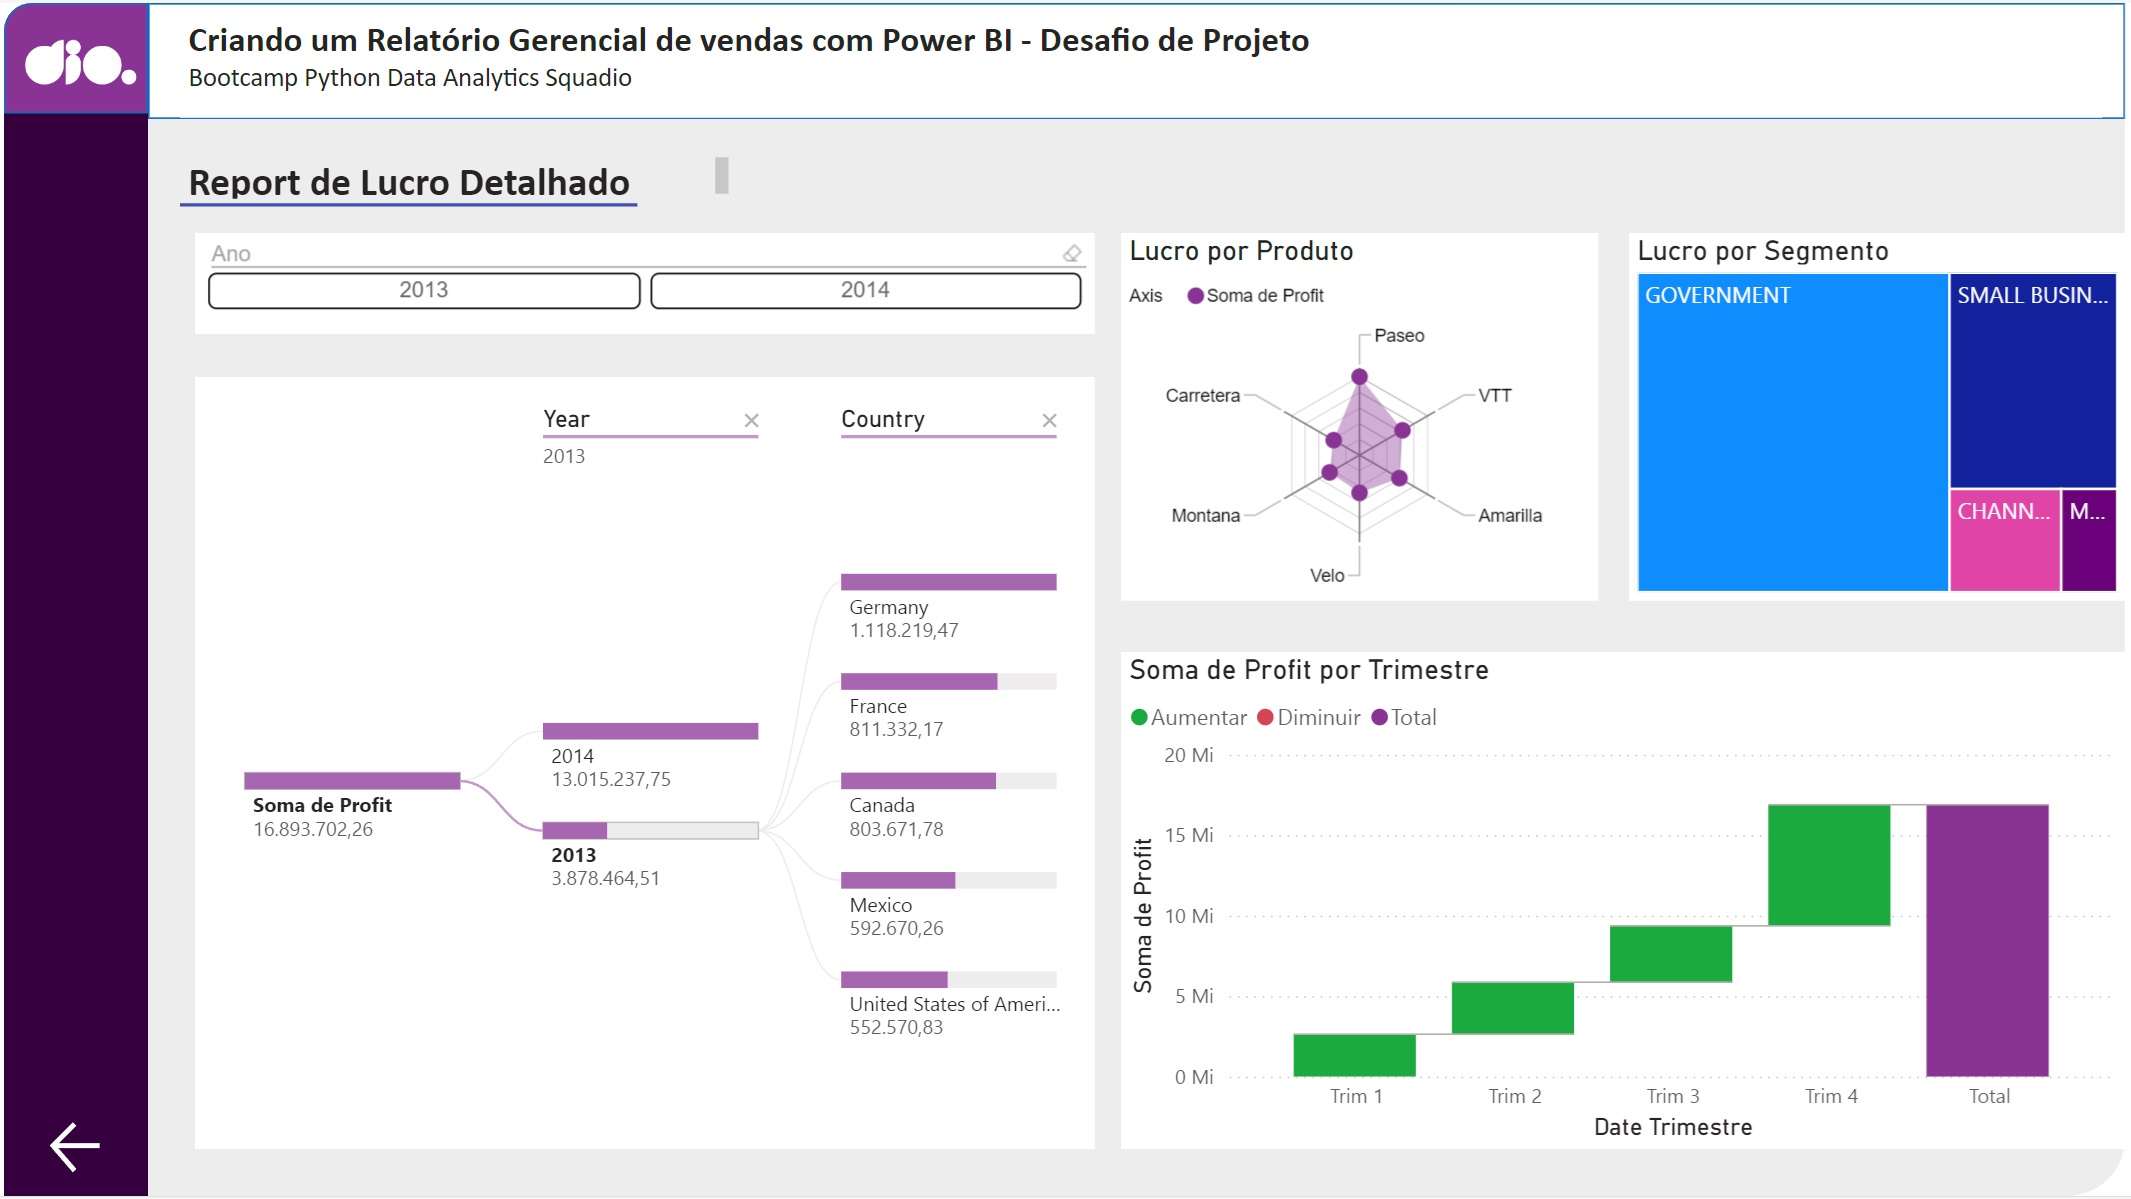

The dashboard page shown, as its layout file describes it:
{"tool":"powerbi","page":{"name":"Página 2","canvas":[1280,720],"ordinal":1},"visuals":[{"type":"group","id":"g1","title":"Grupo 1","box":[0,0,1280,720.1],"z":0},{"type":"shape","box":[0,0,1280,720.1],"z":0,"group":"g1"},{"type":"textbox","box":[106.1,88.3,335.9,35],"z":0,"group":"g2"},{"type":"shape","box":[0,0,86.9,720.1],"z":1000,"group":"g1"},{"type":"group","id":"g2","title":"Título","box":[106.1,53.3,335.9,137.5],"z":1000},{"type":"shape","box":[106.1,53.3,276.2,137.5],"z":1000,"group":"g2"},{"type":"shape","box":[0,0,86.9,66.6],"z":2000,"group":"g1"},{"type":"actionButton","box":[23.3,670.5,50.6,40.2],"z":2000},{"type":"image","title":"logo_dio","box":[8,4.5,76.8,62.1],"z":3000,"group":"g1"},{"type":"ChicletSlicer1448559807354","fields":{"Category":["financials.Date.Variation.Hierarquia de datas.Ano"]},"box":[115.4,138.8,543.4,61],"z":3000},{"type":"shape","box":[86.9,0,1193.1,70],"z":4000,"group":"g1"},{"type":"decompositionTreeVisual","fields":{"Analyze":["Sum(financials.Profit)"],"ExplainBy":["financials.Year","financials.Country"]},"box":[115.4,225.7,543.4,465.6],"z":4000},{"type":"RadarChart1446119667547","title":"Lucro por Produto","fields":{"Category":["financials.Product"],"Y":["Sum(financials.Profit)"]},"box":[674.4,138.8,287.9,221.8],"z":4001,"group":"g1"},{"type":"treemap","title":"Lucro  por Segmento","fields":{"Group":["financials.Segment"],"Values":["Sum(financials.Profit)"]},"box":[980.4,138.8,299.6,221.8],"z":4001},{"type":"waterfallChart","fields":{"Category":["financials.Date.Variation.Hierarquia de datas.Trimestre"],"Y":["Sum(financials.Profit)"]},"box":[674.4,391.7,605.6,299.6],"z":4002},{"type":"textbox","box":[106.1,4.5,1160.4,65.5],"z":5000,"group":"g1"}]}

Visuals, with their boxes on the page's 1280x720 design canvas (x1, y1, x2, y2). These are canvas units, not pixel positions in the 2131x1199 screenshot, which may show the page scaled, cropped or inside an application window:
"Grupo 1" group: [x1=0, y1=0, x2=1280, y2=720]
shape: [x1=0, y1=0, x2=1280, y2=720]
textbox: [x1=106, y1=88, x2=442, y2=123]
shape: [x1=0, y1=0, x2=87, y2=720]
"Título" group: [x1=106, y1=53, x2=442, y2=191]
shape: [x1=106, y1=53, x2=382, y2=191]
shape: [x1=0, y1=0, x2=87, y2=67]
actionButton: [x1=23, y1=670, x2=74, y2=711]
"logo_dio" image: [x1=8, y1=4, x2=85, y2=67]
ChicletSlicer1448559807354 - financials.Date.Variation.Hierarquia de datas.Ano: [x1=115, y1=139, x2=659, y2=200]
shape: [x1=87, y1=0, x2=1280, y2=70]
decompositionTreeVisual - Sum(financials.Profit) x financials.Year: [x1=115, y1=226, x2=659, y2=691]
"Lucro por Produto" RadarChart1446119667547: [x1=674, y1=139, x2=962, y2=361]
"Lucro  por Segmento" treemap: [x1=980, y1=139, x2=1280, y2=361]
waterfallChart - financials.Date.Variation.Hierarquia de datas.Trimestre x Sum(financials.Profit): [x1=674, y1=392, x2=1280, y2=691]
textbox: [x1=106, y1=4, x2=1266, y2=70]
